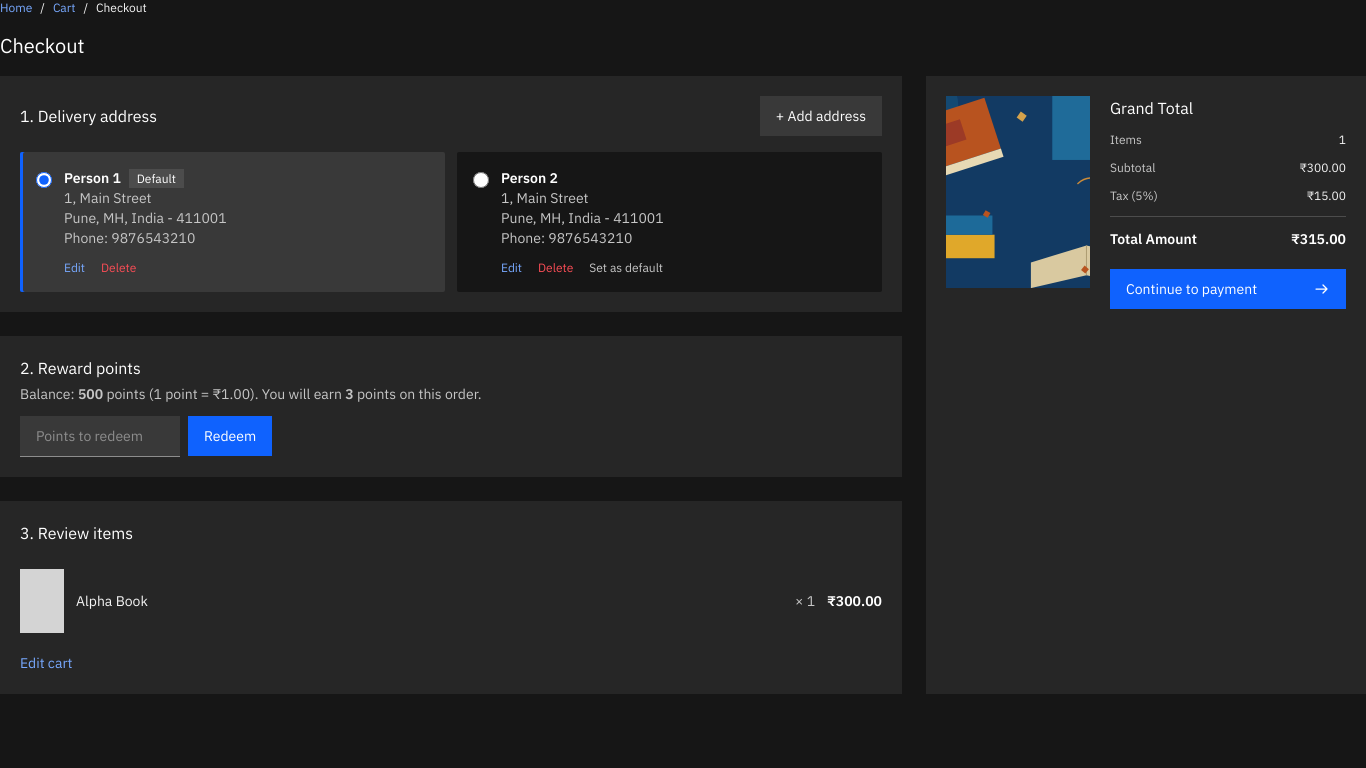
Test case: CheckoutPage › validates the address form before saving
The image size is (1366, 768).
Click the button "+ Add address" at [821, 116], box [760, 96, 882, 136]
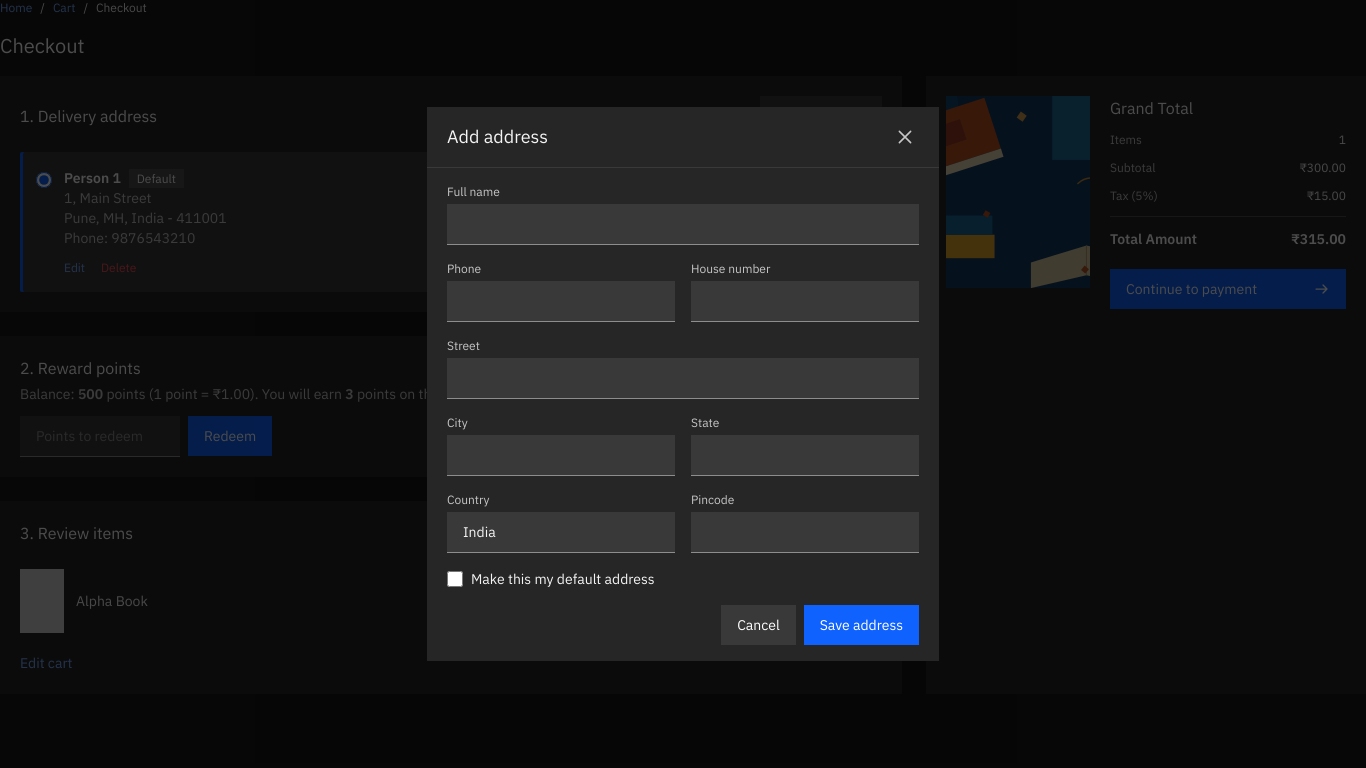
Type "123" into the field labelled "Phone" at [561, 302], box [447, 281, 675, 322]
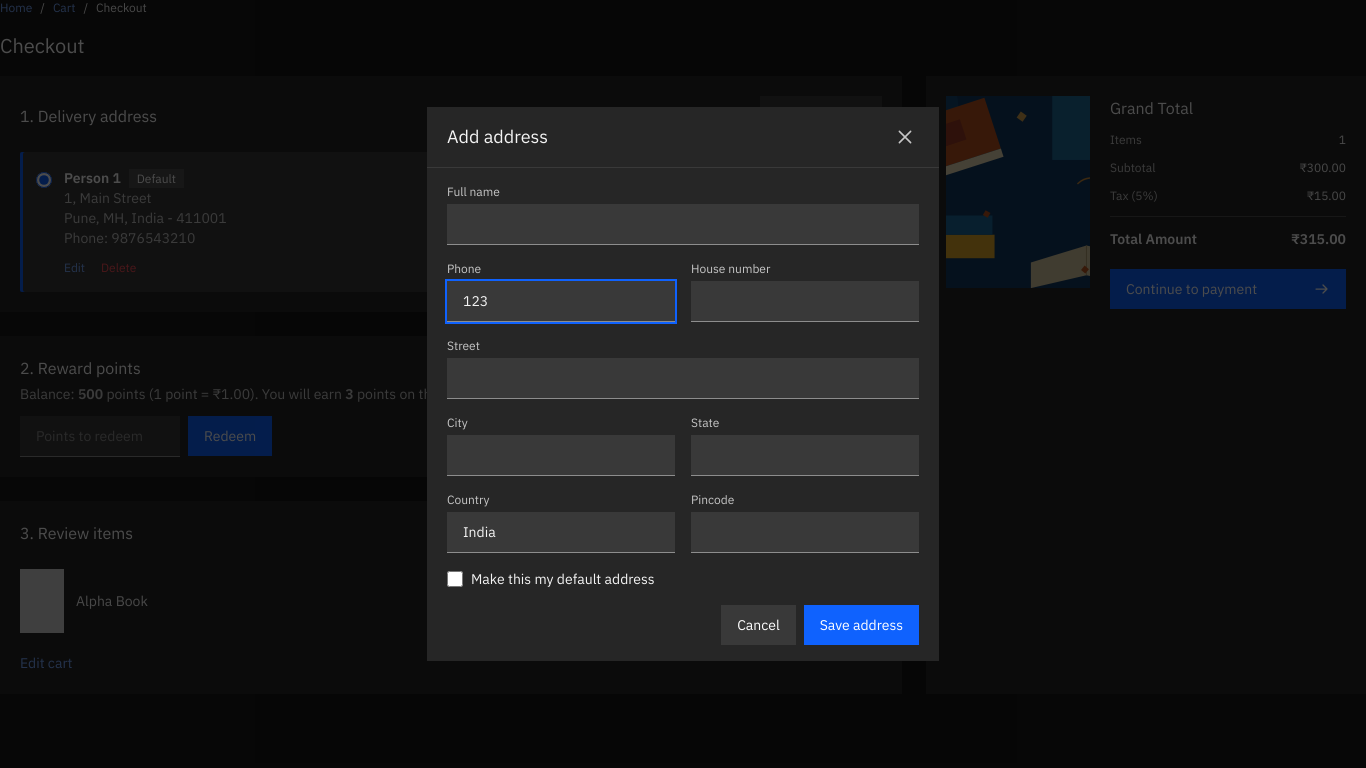
Type "12" into the field labelled "Pincode" at [805, 532], box [691, 512, 919, 553]
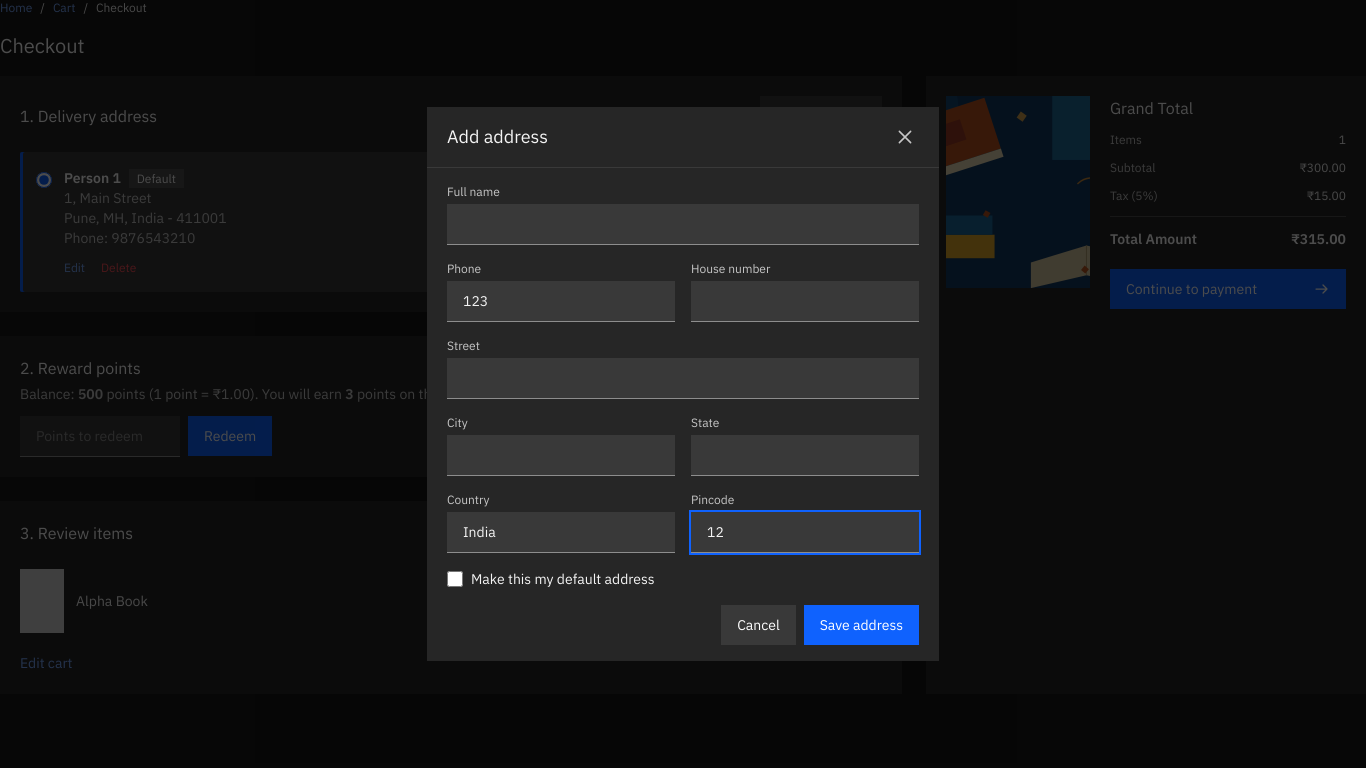
Click the button "Save address" at [861, 625], box [804, 605, 919, 645]
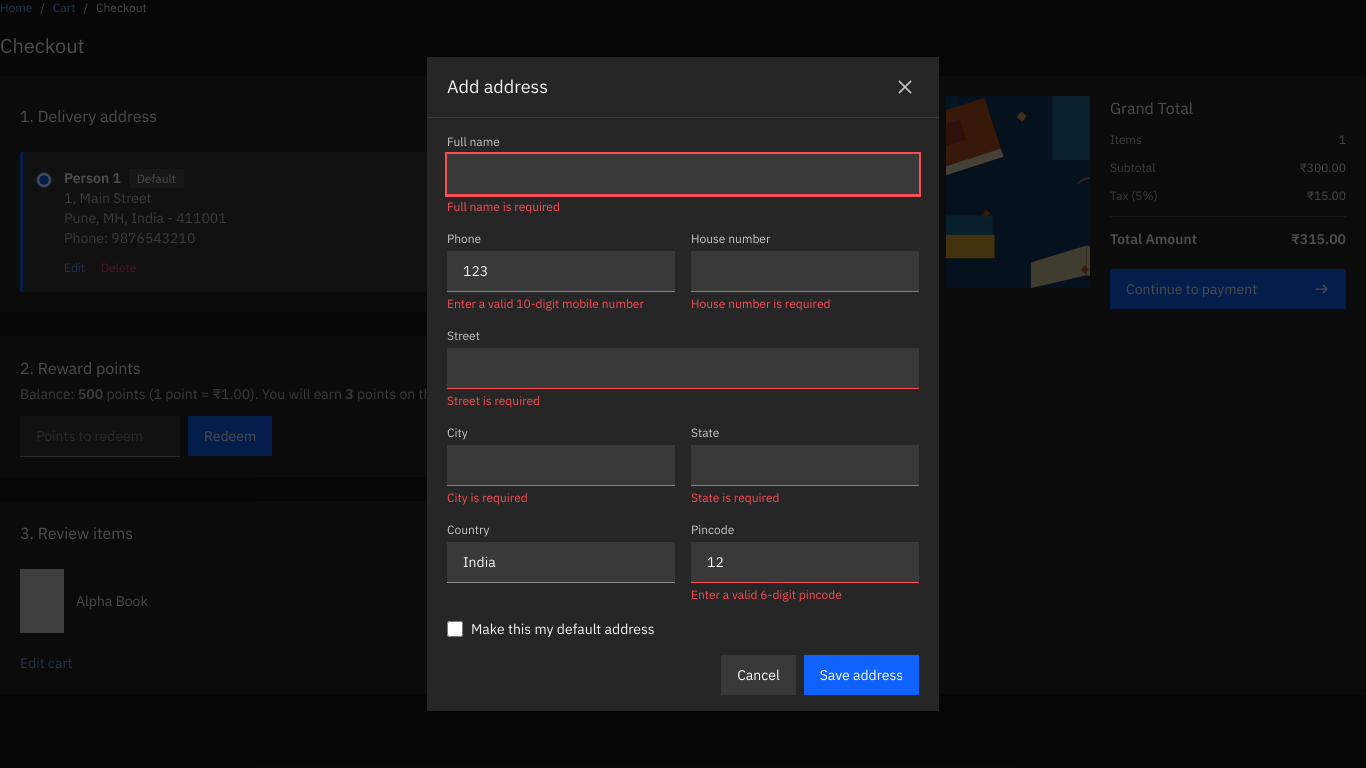
Now the text "Enter a valid 10-digit mobile number" is shown, box [447, 296, 675, 312]
Now the text "Enter a valid 6-digit pincode" is shown, box [691, 587, 842, 602]
Now the text "Full name is required" is shown, box [447, 199, 560, 214]
